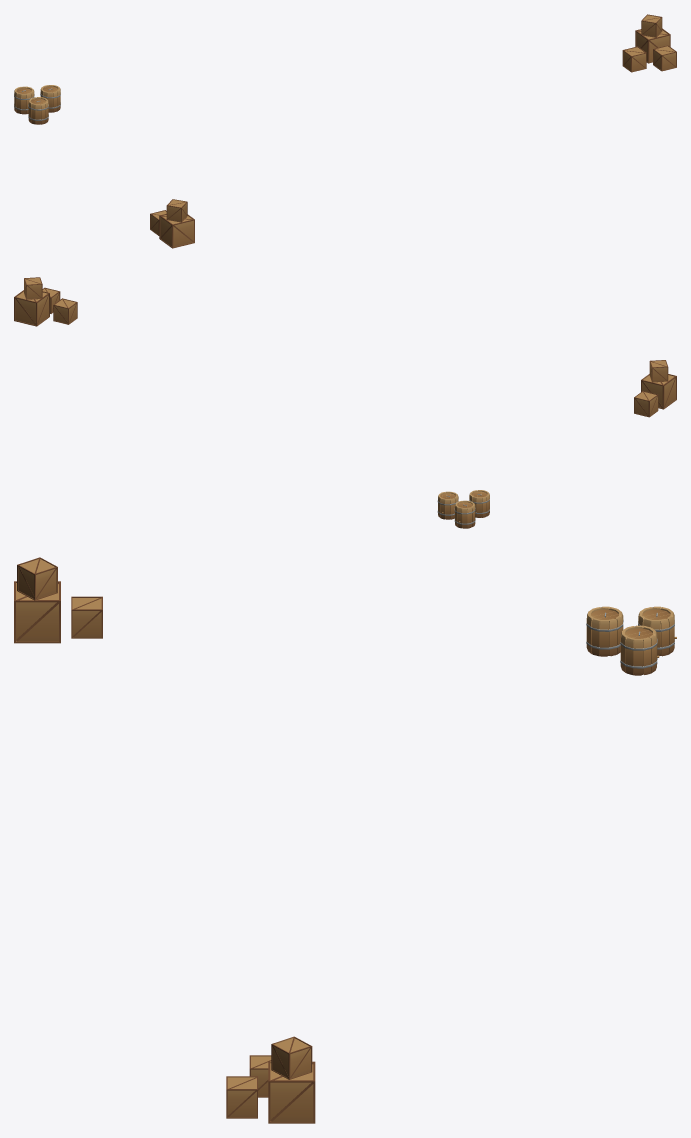
File: Barrel N Box.fbx
The picture shows the model from 3 angles, top to bottom: view 1: azimuth 30°, elevation 25°; view 2: azimuth 150°, elevation 25°; view 3: azimuth 270°, elevation 25°; orthographic projection. The views are drawn at different scales.
Visible parts, largest first — view 1: Wooden_Box01_6, Wooden_Box01_1, Barrel1, Wooden_Box01_7, Wooden_Box01_3, Barrel2, Wooden_Box01_2, Wooden_Box01_5, Barrel3; view 2: Wooden_Box01_1, Wooden_Box01_6, Barrel2, Wooden_Box01_7, Wooden_Box01_4, Barrel3, Barrel1, Wooden_Box01_5, Wooden_Box01_2; view 3: Wooden_Box01_1, Wooden_Box01_6, Barrel3, Barrel1, Wooden_Box01_2, Wooden_Box01_5, Wooden_Box01_3, Wooden_Box01_4, Barrel2.
Boxes of the visible parts, left/top/right/bottom form: Wooden_Box01_6: left=159, top=214, right=194, bottom=248; Wooden_Box01_1: left=635, top=28, right=670, bottom=63; Barrel1: left=28, top=97, right=48, bottom=124; Wooden_Box01_7: left=622, top=46, right=646, bottom=72; Wooden_Box01_3: left=653, top=45, right=676, bottom=71; Barrel2: left=14, top=86, right=34, bottom=114; Wooden_Box01_2: left=641, top=14, right=662, bottom=37; Wooden_Box01_5: left=166, top=199, right=187, bottom=222; Barrel3: left=40, top=85, right=60, bottom=112; Wooden_Box01_1: left=14, top=290, right=49, bottom=326; Wooden_Box01_6: left=641, top=374, right=676, bottom=409; Barrel2: left=454, top=500, right=475, bottom=528; Wooden_Box01_7: left=53, top=298, right=77, bottom=324; Wooden_Box01_4: left=634, top=391, right=658, bottom=417; Barrel3: left=437, top=491, right=458, bottom=519; Barrel1: left=469, top=490, right=489, bottom=517; Wooden_Box01_5: left=649, top=360, right=668, bottom=382; Wooden_Box01_2: left=24, top=277, right=42, bottom=299; Wooden_Box01_1: left=268, top=1061, right=315, bottom=1123; Wooden_Box01_6: left=14, top=581, right=60, bottom=643; Barrel3: left=620, top=625, right=659, bottom=675; Barrel1: left=586, top=606, right=623, bottom=656; Wooden_Box01_2: left=271, top=1036, right=312, bottom=1079; Wooden_Box01_5: left=17, top=557, right=57, bottom=600; Wooden_Box01_3: left=226, top=1076, right=257, bottom=1118; Wooden_Box01_4: left=71, top=596, right=102, bottom=638; Barrel2: left=638, top=606, right=676, bottom=656.
Bounding box in the file's own units: 0.4413 × 0.0279 × 0.2472.
1 material, 1 textured.
